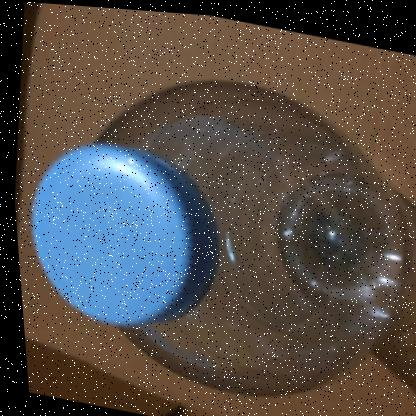bottle cap: (1, 13, 416, 416)
